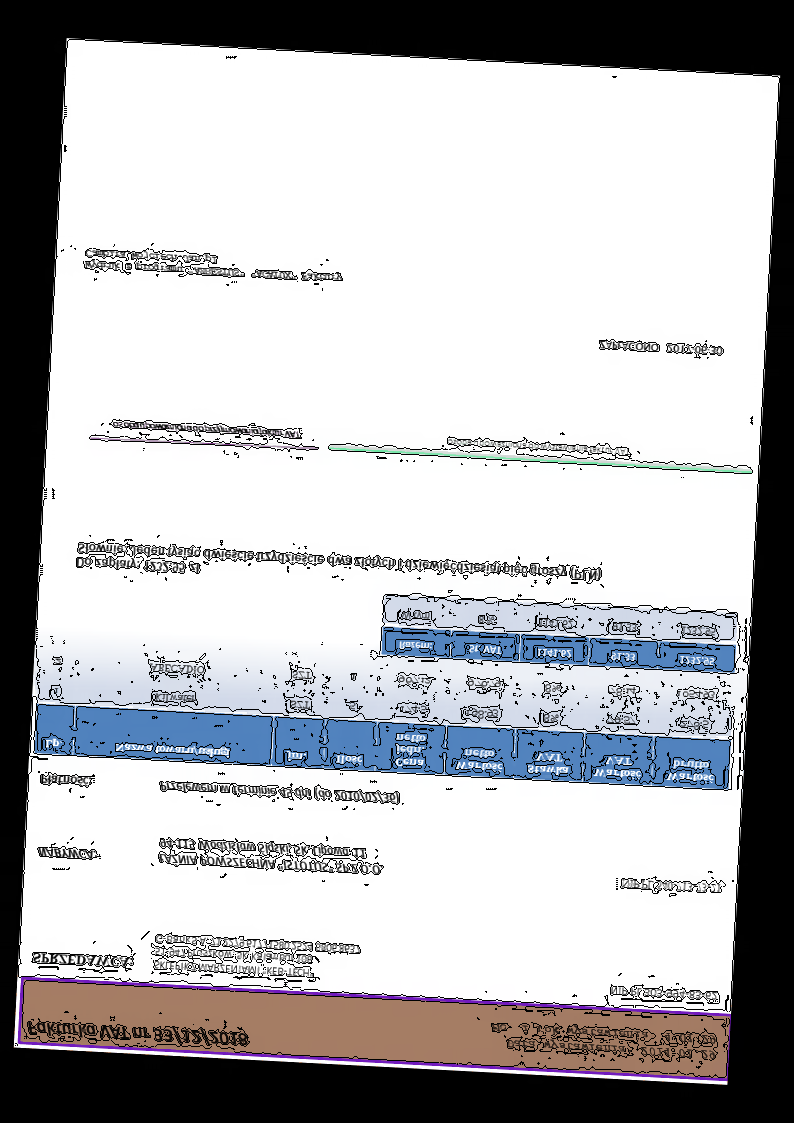Table: (32, 642, 735, 793), (379, 593, 739, 675)
TextBox: (73, 537, 604, 598), (151, 930, 363, 985), (82, 245, 347, 287), (486, 1018, 719, 1064), (155, 834, 387, 879), (23, 1016, 251, 1053), (157, 778, 401, 806), (109, 417, 301, 442), (443, 436, 634, 459), (596, 336, 726, 359), (29, 948, 134, 972), (607, 983, 720, 1005), (617, 875, 725, 897), (34, 843, 98, 863), (36, 771, 94, 790)
